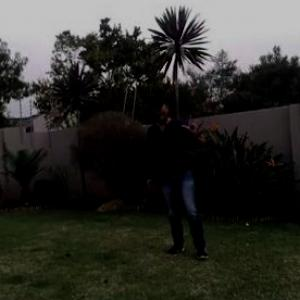land_hand: (179, 109, 200, 136)
